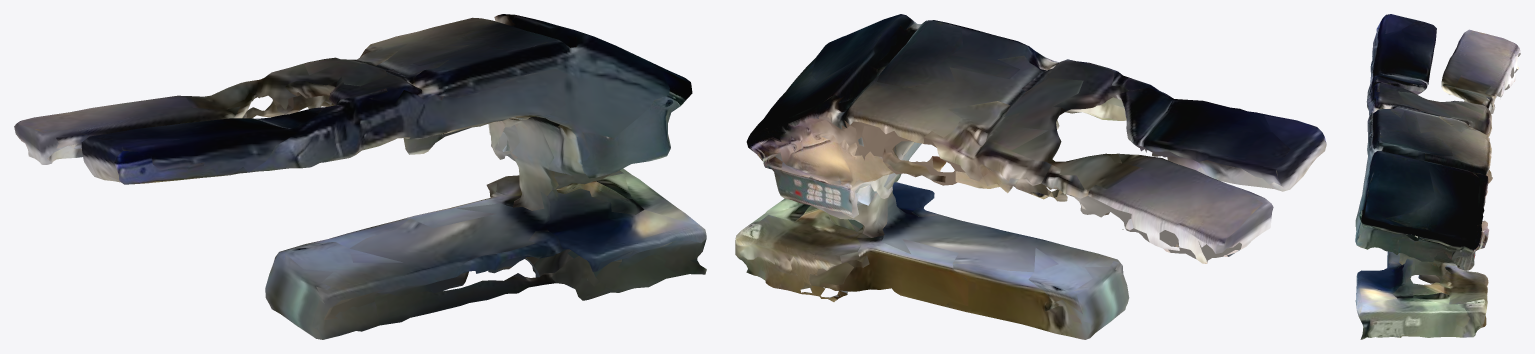
Rendered from operationtable_model.glb.
3 views of the same model, side by side, from view 1: azimuth 30°, elevation 25°; view 2: azimuth 150°, elevation 25°; view 3: azimuth 270°, elevation 25° (orthographic). The views are drawn at different scales.
Visible parts, largest first — view 1: OperationTable_Model; view 2: OperationTable_Model; view 3: OperationTable_Model.
Boxes of the visible parts, bbox=[...] form: OperationTable_Model: bbox=[14, 14, 706, 339]; OperationTable_Model: bbox=[735, 14, 1326, 339]; OperationTable_Model: bbox=[1355, 14, 1520, 339].
Bounding box in the file's own units: 2.26 × 0.953 × 0.888.
1 material, 1 textured.
